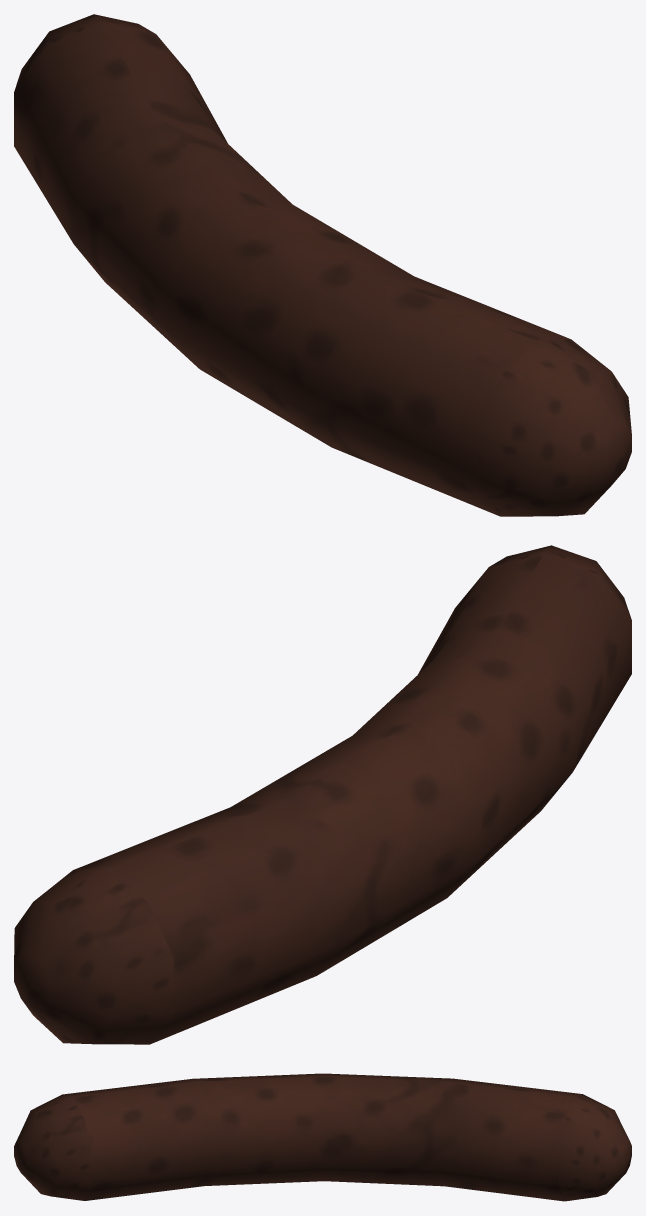
File: DoubleCooked_CervelasBurned.fbx
The picture shows the model from 3 angles, top to bottom: view 1: azimuth 30°, elevation 25°; view 2: azimuth 150°, elevation 25°; view 3: azimuth 270°, elevation 25°; orthographic projection. The views are drawn at different scales.
Parts seen in each view (by area): view 1: DoubleCooked_CervelasBurned; view 2: DoubleCooked_CervelasBurned; view 3: DoubleCooked_CervelasBurned.
Part boxes in pixels (x1,y1,x2,y2): DoubleCooked_CervelasBurned: (14, 14, 631, 516); DoubleCooked_CervelasBurned: (14, 545, 631, 1044); DoubleCooked_CervelasBurned: (14, 1073, 631, 1201).
Bounding box in the file's own units: 5.53 × 4.01 × 22.38.
1 material, 1 textured.
